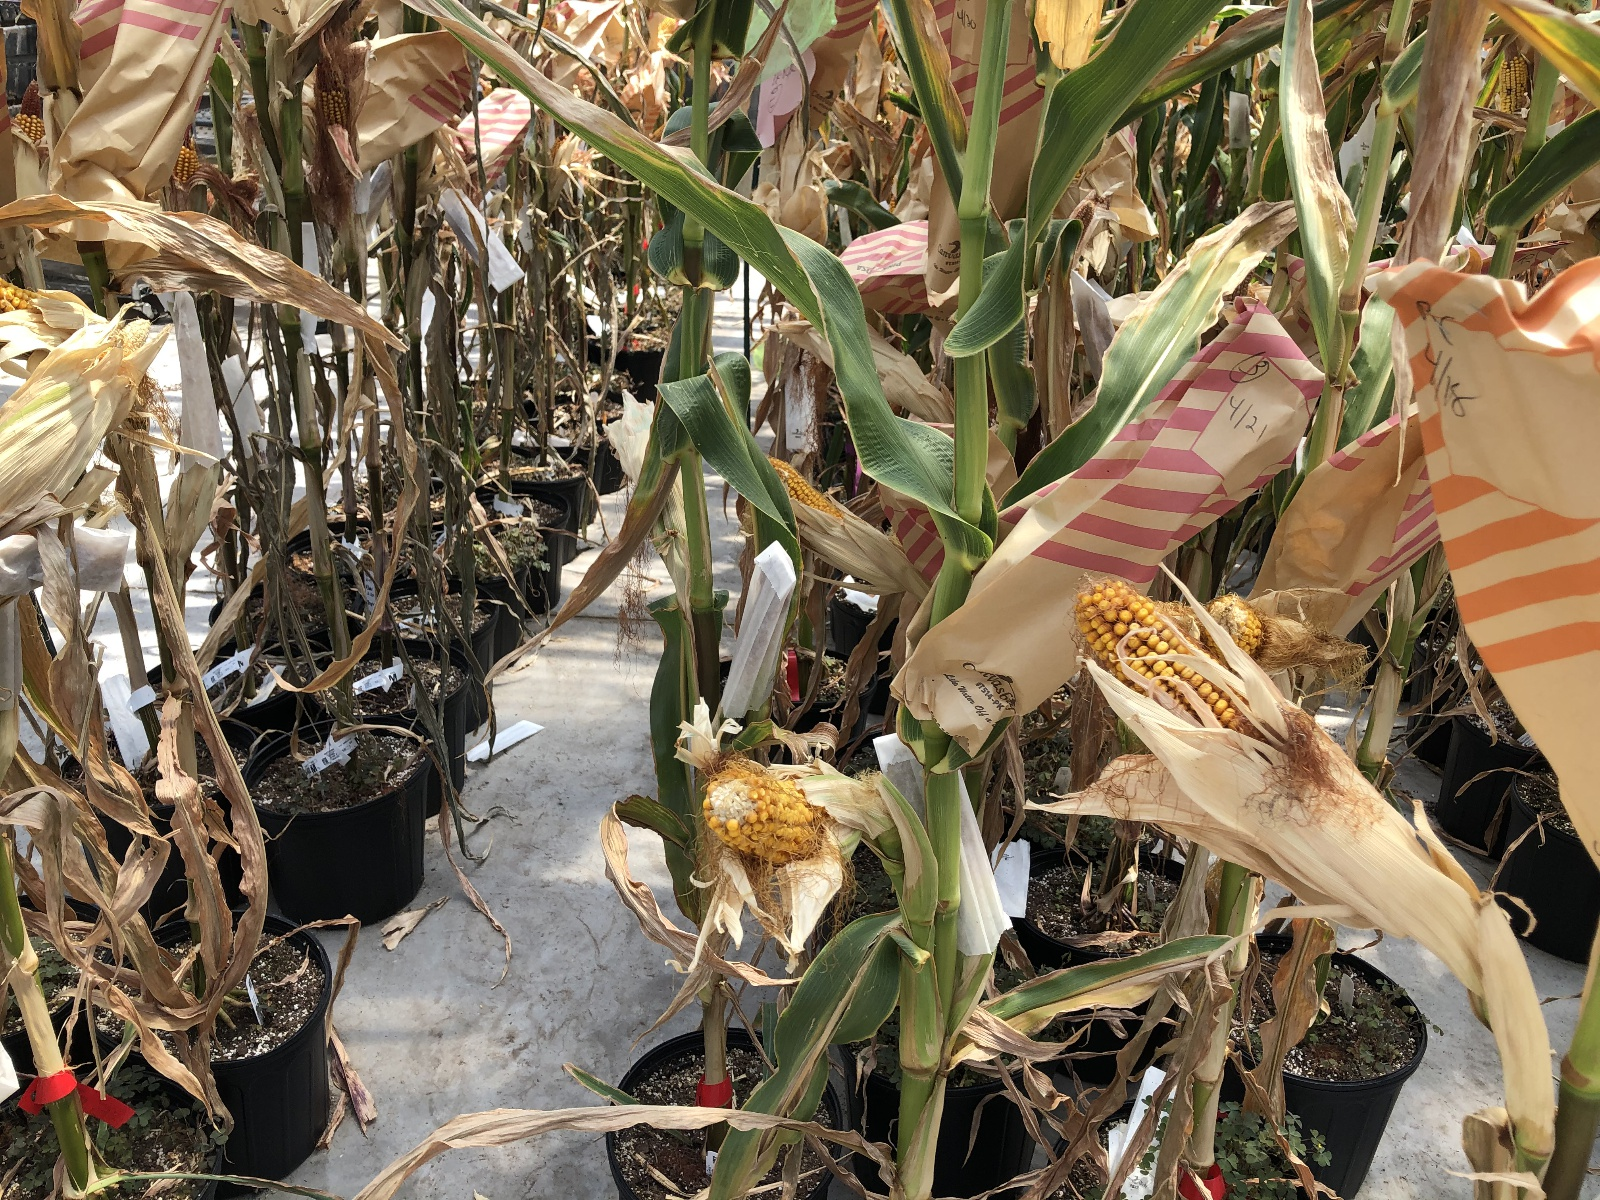ear: (1066, 562, 1519, 992), (1, 308, 163, 516), (766, 449, 916, 589), (695, 755, 855, 870), (309, 50, 364, 198), (1203, 572, 1277, 661), (14, 81, 47, 165), (1, 262, 47, 320), (168, 125, 203, 184)
